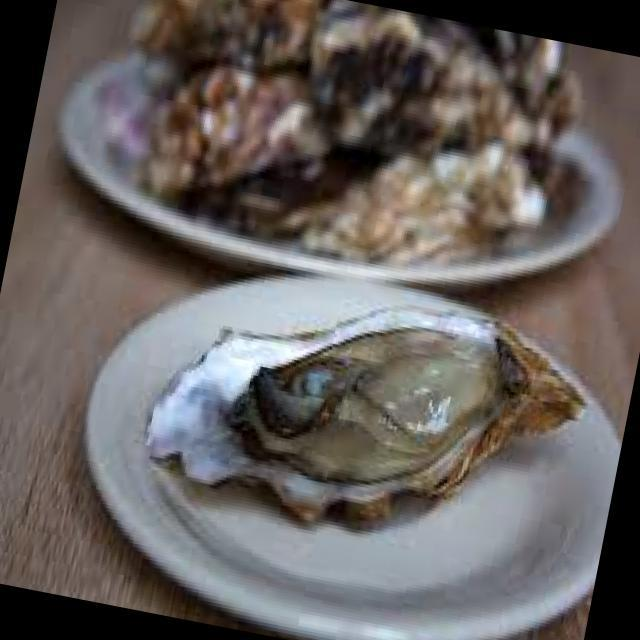Oyster- Indeterminate: (310, 0, 579, 178), (236, 139, 584, 266), (144, 66, 330, 198), (130, 0, 326, 74)
Oyster-Open: (146, 306, 584, 522)
